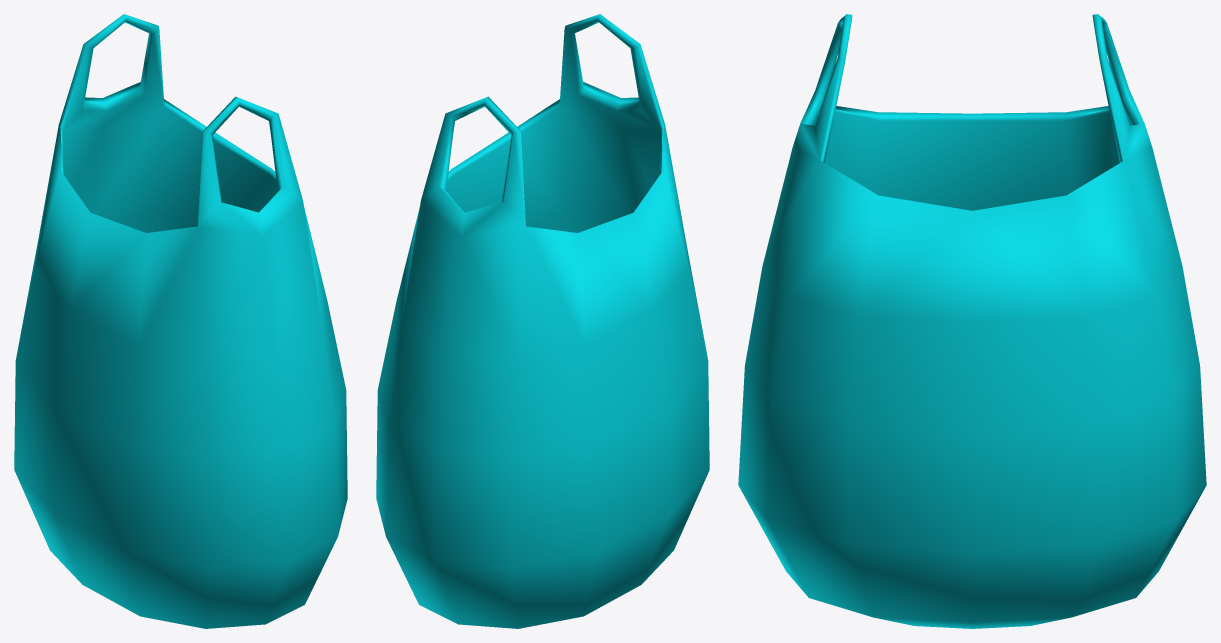
File: plastic_bag.fbx
The picture shows the model from 3 angles, left to right: view 1: azimuth 30°, elevation 25°; view 2: azimuth 150°, elevation 25°; view 3: azimuth 270°, elevation 25°; orthographic projection. The views are drawn at different scales.
Parts seen in each view (by area): view 1: Sphere.001; view 2: Sphere.001; view 3: Sphere.001.
Part boxes in pixels (box(x1,y1,x2,y2)): Sphere.001: box(14, 14, 347, 628); Sphere.001: box(376, 14, 709, 628); Sphere.001: box(738, 14, 1206, 628).
Bounding box in the file's own units: 0.6614 × 0.9591 × 1.33.
